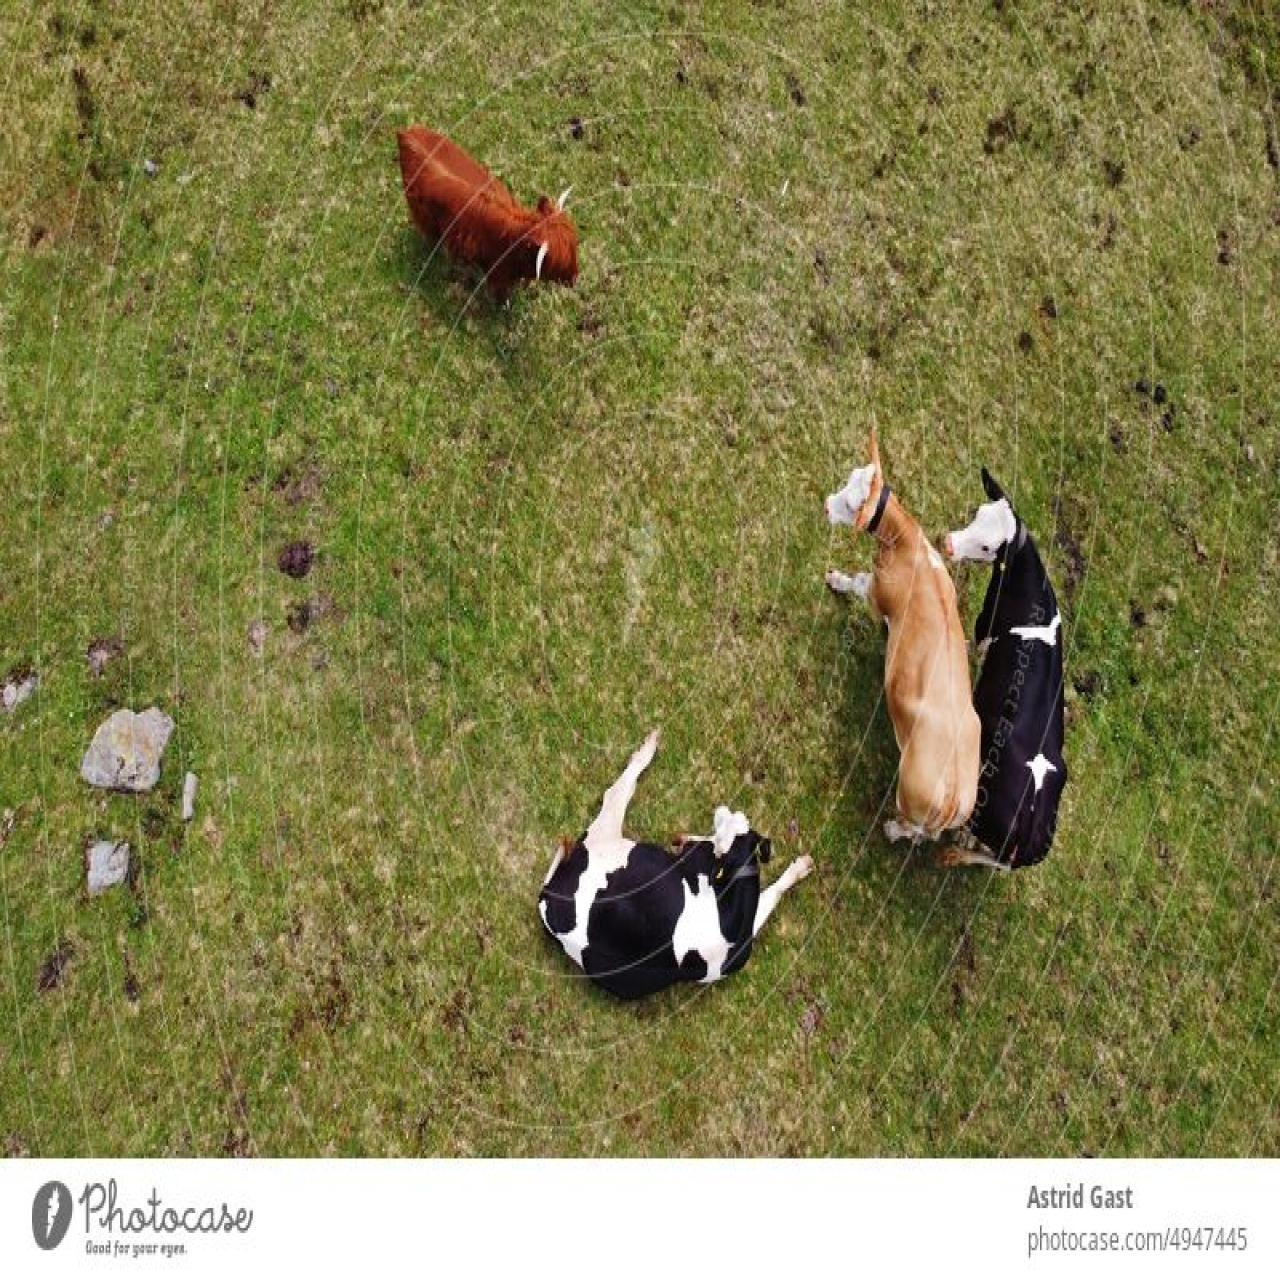cow: (527, 724, 812, 1014), (816, 401, 978, 866), (348, 101, 607, 355), (935, 450, 1070, 883)
